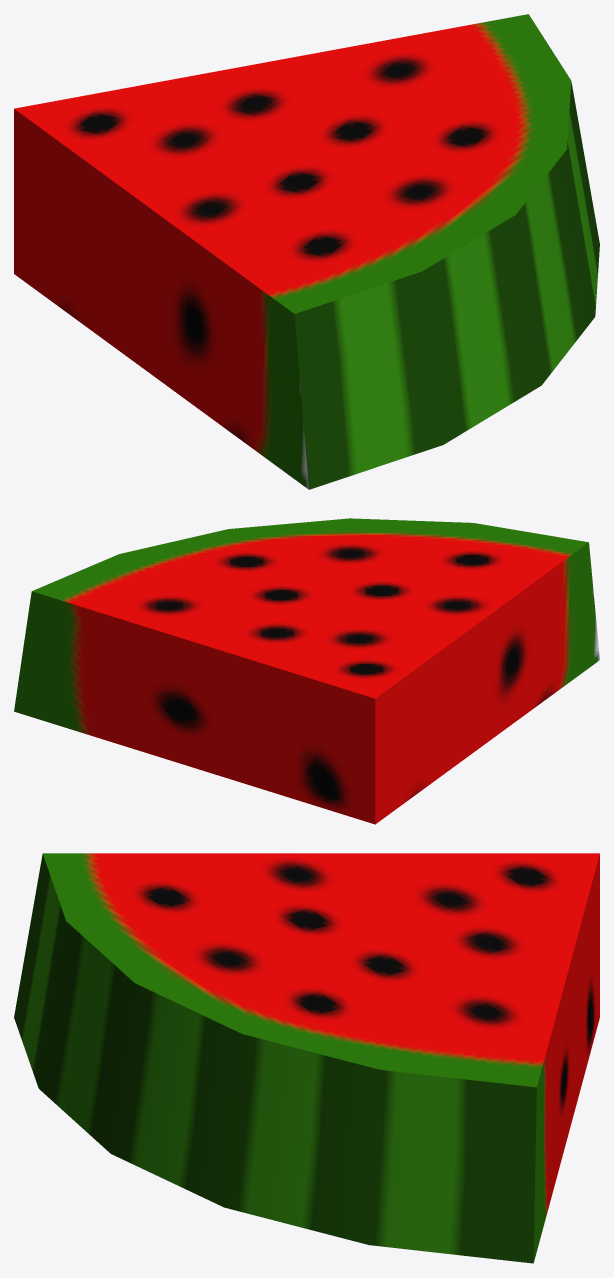
File: Watermelon1.fbx
The picture shows the model from 3 angles, top to bottom: view 1: azimuth 30°, elevation 25°; view 2: azimuth 150°, elevation 25°; view 3: azimuth 270°, elevation 25°; orthographic projection. The views are drawn at different scales.
Visible parts, largest first — view 1: Watermelon1; view 2: Watermelon1; view 3: Watermelon1.
Boxes of the visible parts, bbox=[...] form: Watermelon1: bbox=[14, 14, 599, 489]; Watermelon1: bbox=[14, 518, 599, 824]; Watermelon1: bbox=[14, 853, 599, 1263].
Size of the model in its own units: 10.63 by 3.31 by 10.7.
